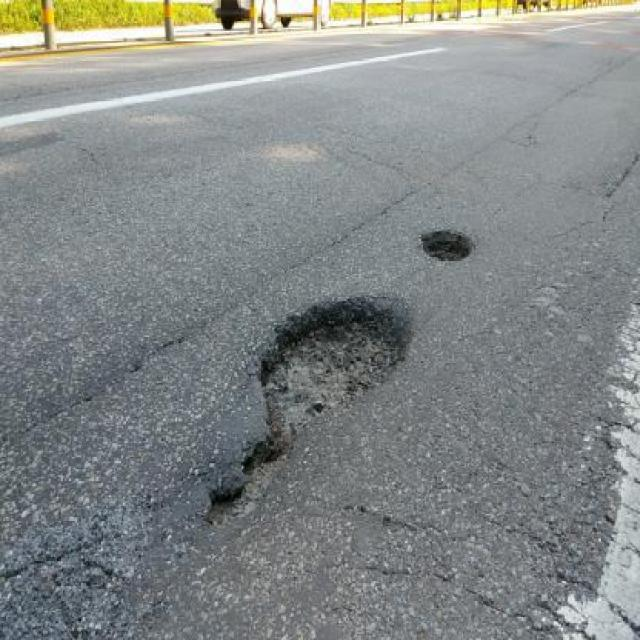Pothole: (209, 278, 414, 524), (418, 222, 475, 266)
